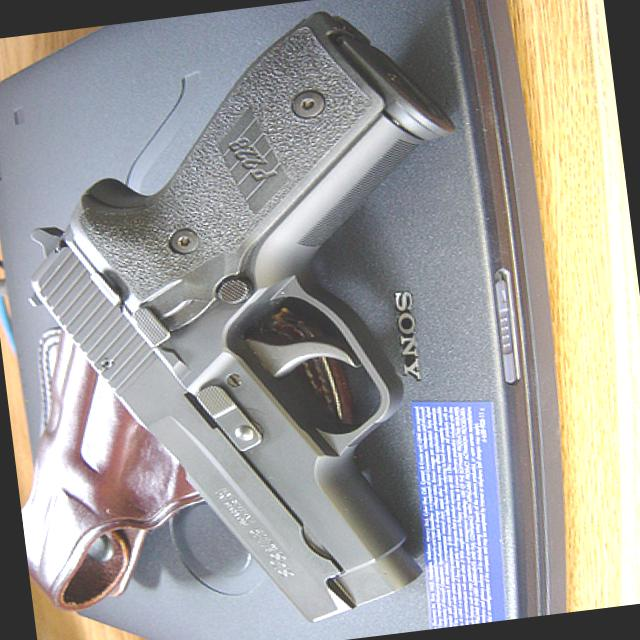handgun: (0, 0, 513, 639)
